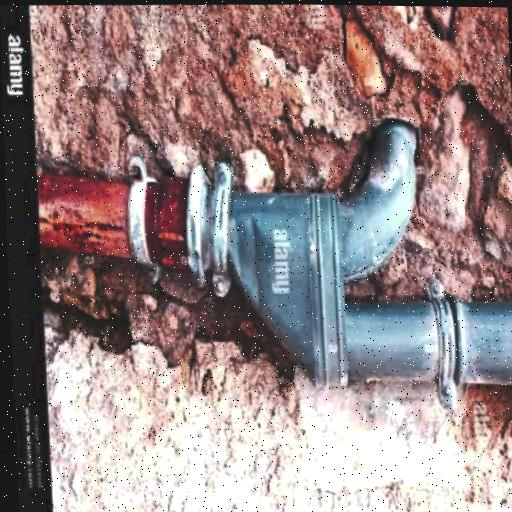corrosion: (34, 178, 132, 263), (143, 175, 194, 275)
